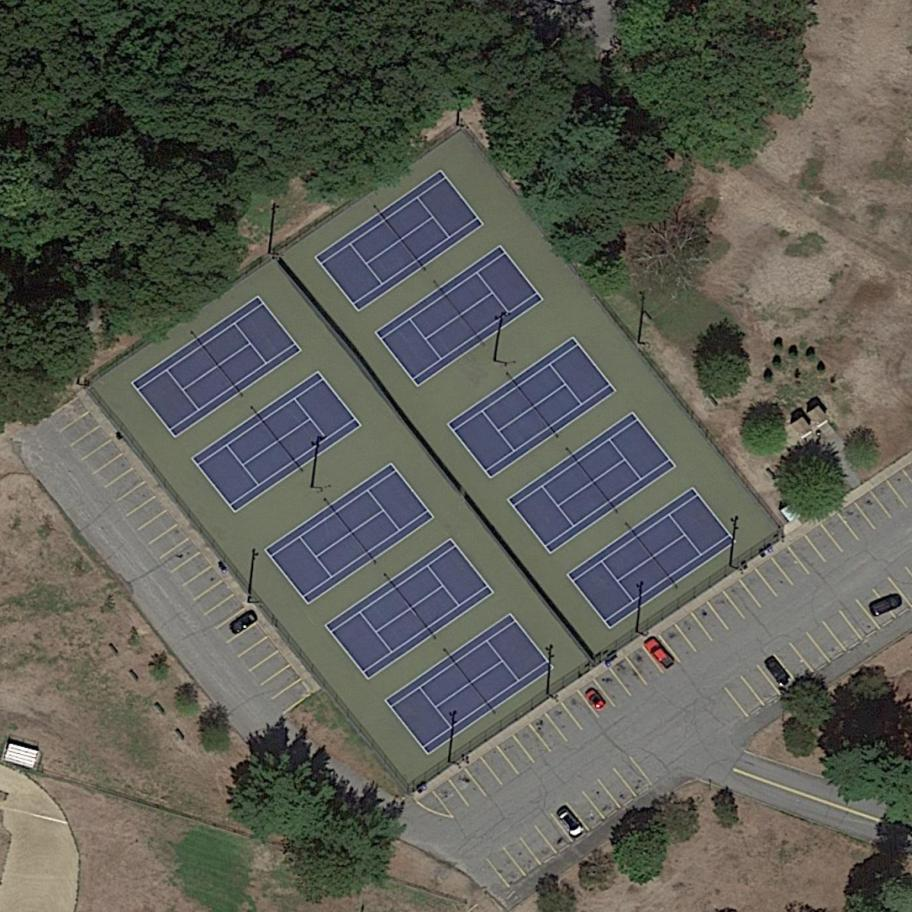small-vehicle: (643, 634, 677, 673), (552, 804, 587, 841), (762, 655, 793, 691), (868, 591, 906, 619), (228, 607, 261, 636), (582, 685, 608, 713)
